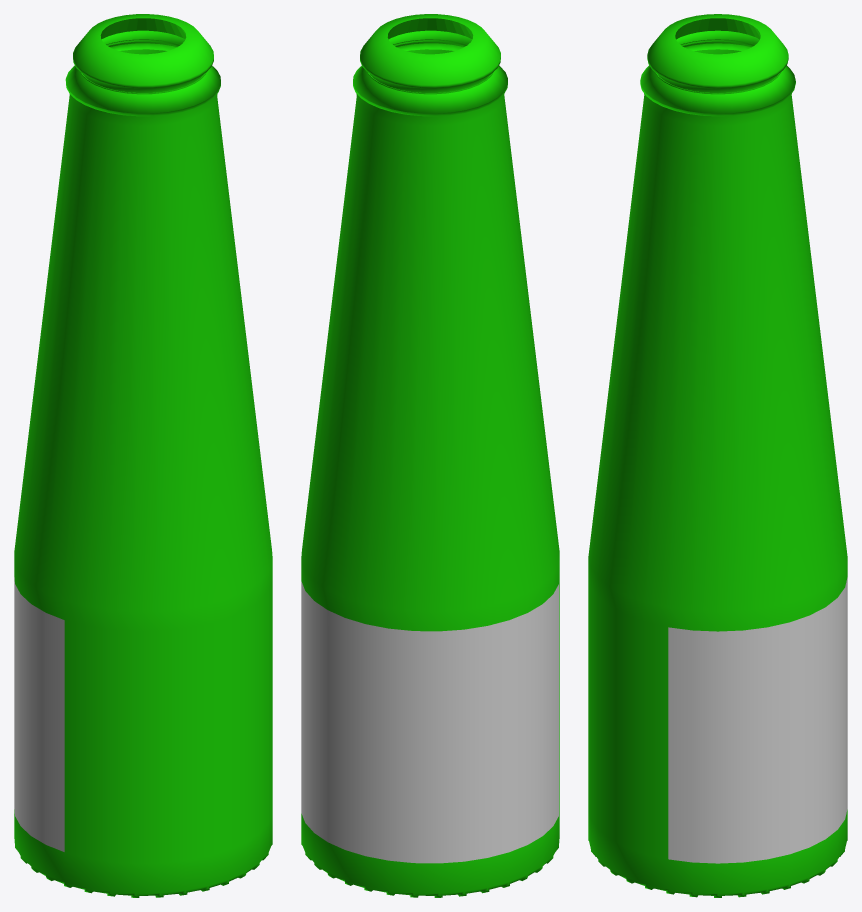
The model's file is SODA.fbx.
The picture shows the model from 3 angles, left to right: view 1: azimuth 30°, elevation 25°; view 2: azimuth 150°, elevation 25°; view 3: azimuth 270°, elevation 25°; orthographic projection.
Visible parts, largest first — view 1: Cylinder.002; view 2: Cylinder.002; view 3: Cylinder.002.
Boxes of the visible parts, x1=… form: Cylinder.002: x1=14, y1=14, x2=272, y2=897; Cylinder.002: x1=301, y1=14, x2=559, y2=897; Cylinder.002: x1=588, y1=14, x2=847, y2=897.
Size of the model in its own units: 71.56 by 246 by 71.56.
